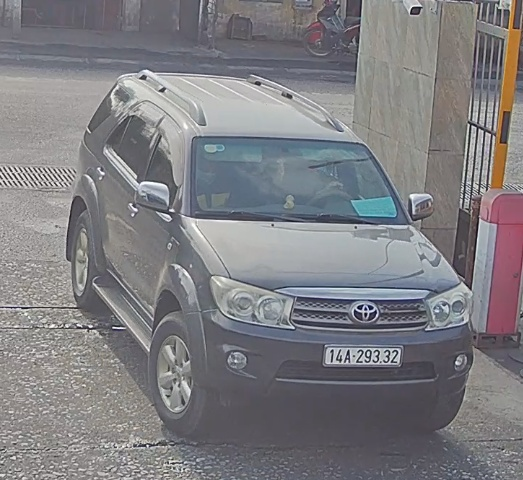vehicle plate: (322, 339, 405, 373)
